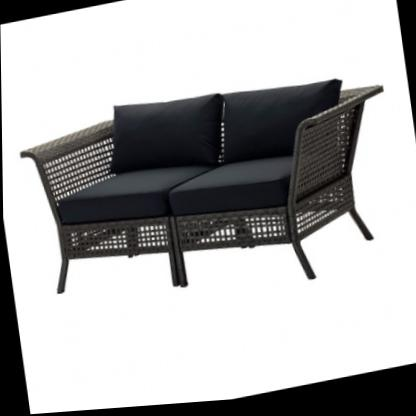Sofa: (11, 54, 410, 336)
